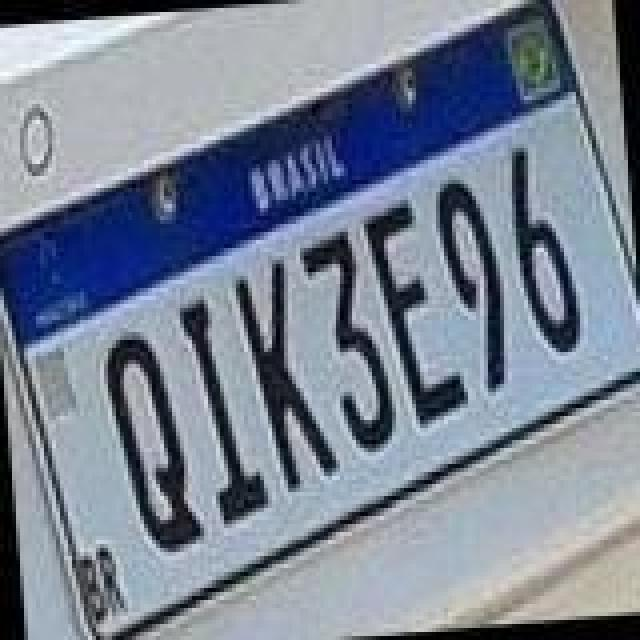3: (300, 226, 404, 462)
6: (498, 136, 590, 360)
9: (430, 170, 514, 406)
E: (360, 190, 472, 434)
I: (176, 284, 272, 532)
K: (232, 248, 344, 504)
Q: (96, 326, 208, 562)
